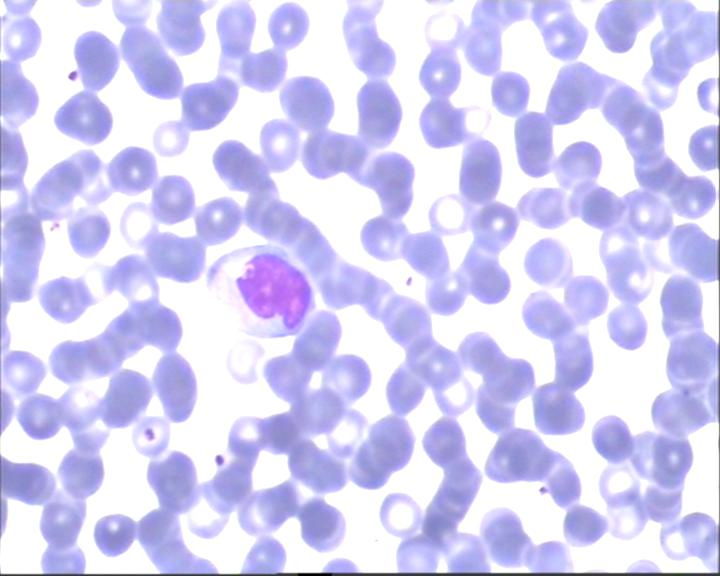mono: (206, 238, 321, 342)
